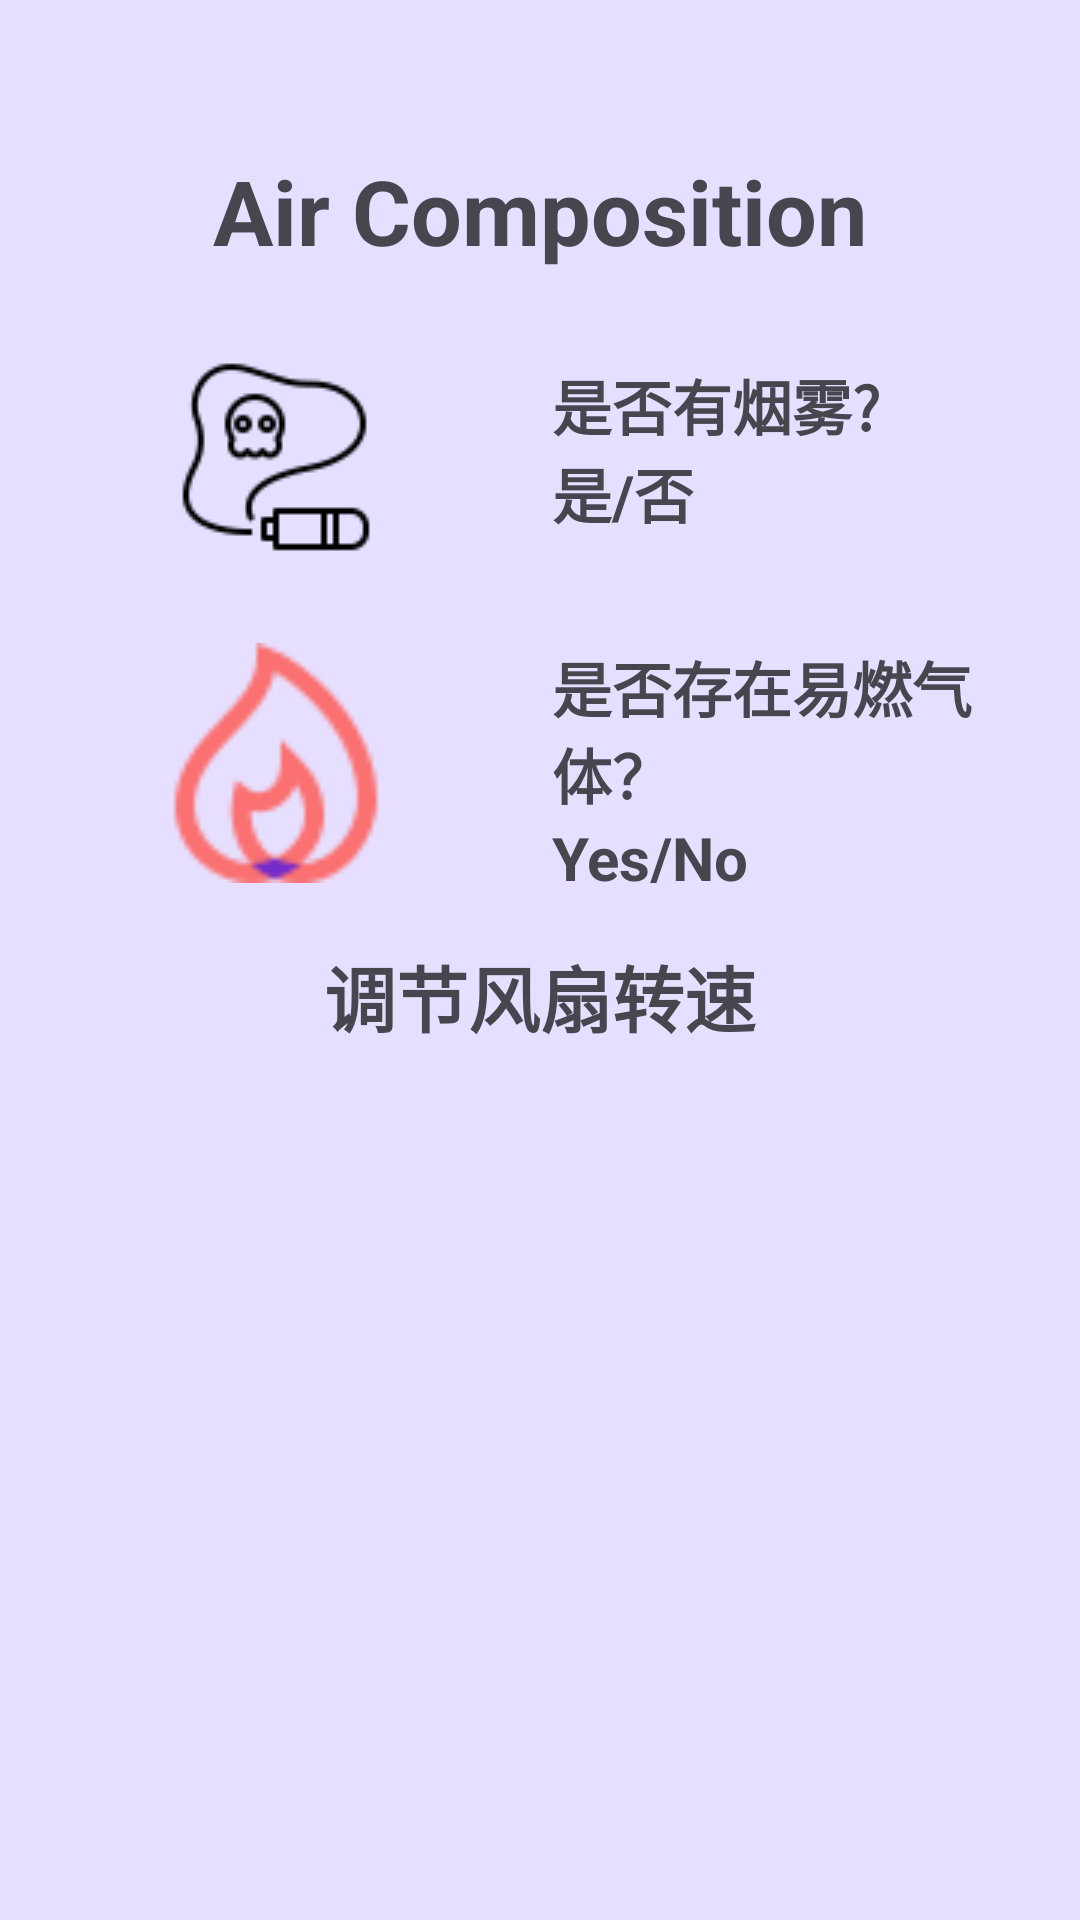

Locate icon controls on the screen. Image size 1080*1920, boxes as (x1, y1, x2, y2).
fire: (174, 643, 378, 883)
smoke: (182, 363, 370, 551)
